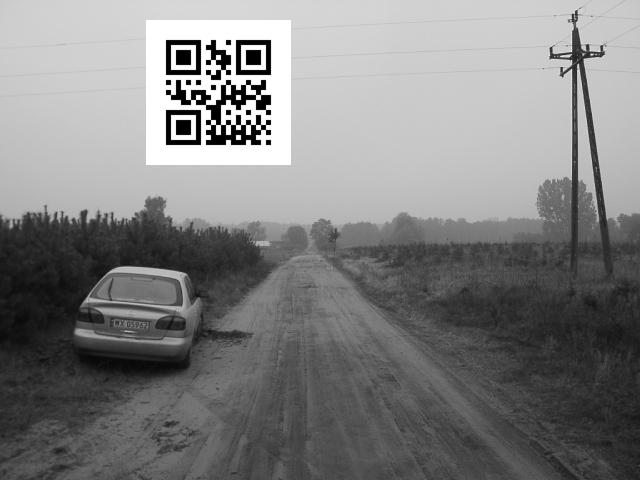qr_code: (148, 18, 289, 162)
